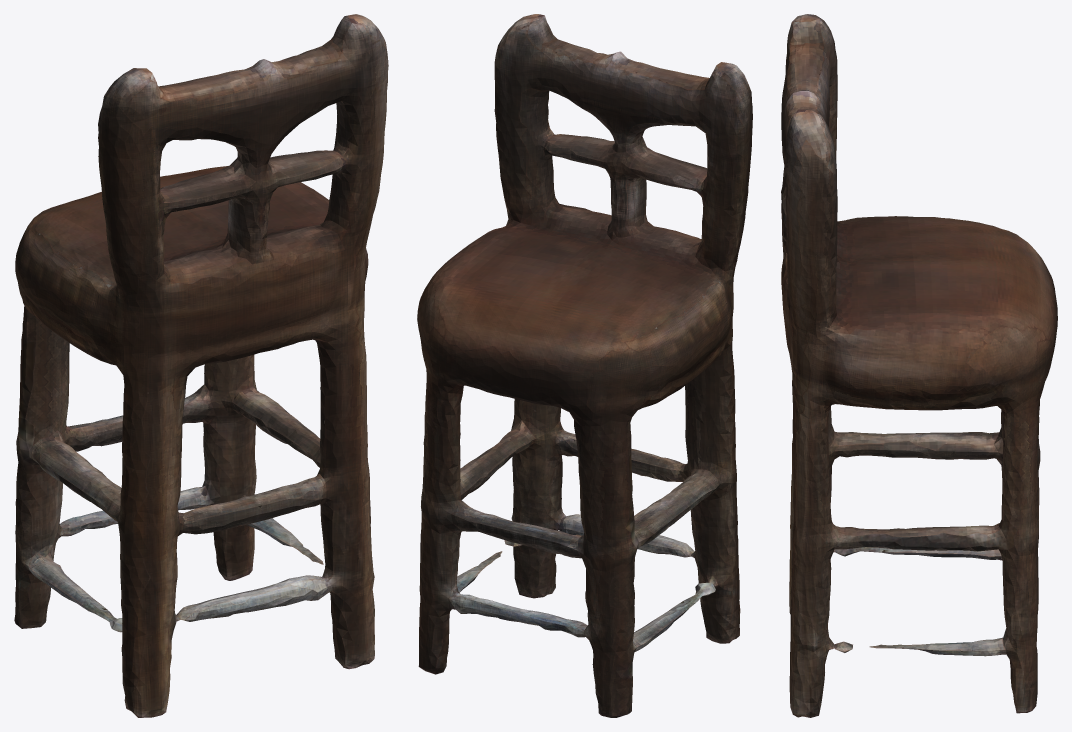
The model's file is a bar chair.glb.
The picture shows the model from 3 angles, left to right: view 1: azimuth 30°, elevation 25°; view 2: azimuth 150°, elevation 25°; view 3: azimuth 270°, elevation 25°; orthographic projection. The views are drawn at different scales.
Size of the model in its own units: 0.4795 by 1 by 0.4173.
Materials: 1 (1 with a texture image).
